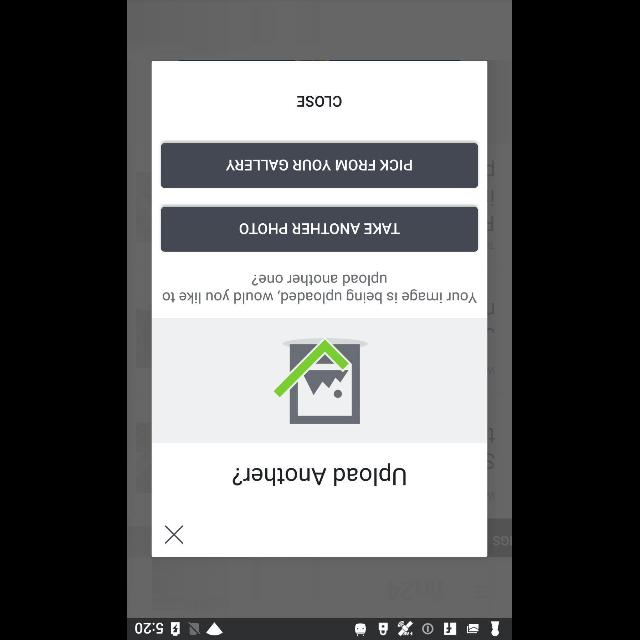icon: (165, 524, 185, 544)
image: (276, 338, 368, 424)
panel: (152, 61, 488, 557)
text: (164, 272, 478, 304), (234, 464, 406, 486), (298, 95, 342, 107)
textbutton: (162, 206, 478, 252), (162, 144, 478, 188)
uppertaskbar: (128, 617, 512, 639)
